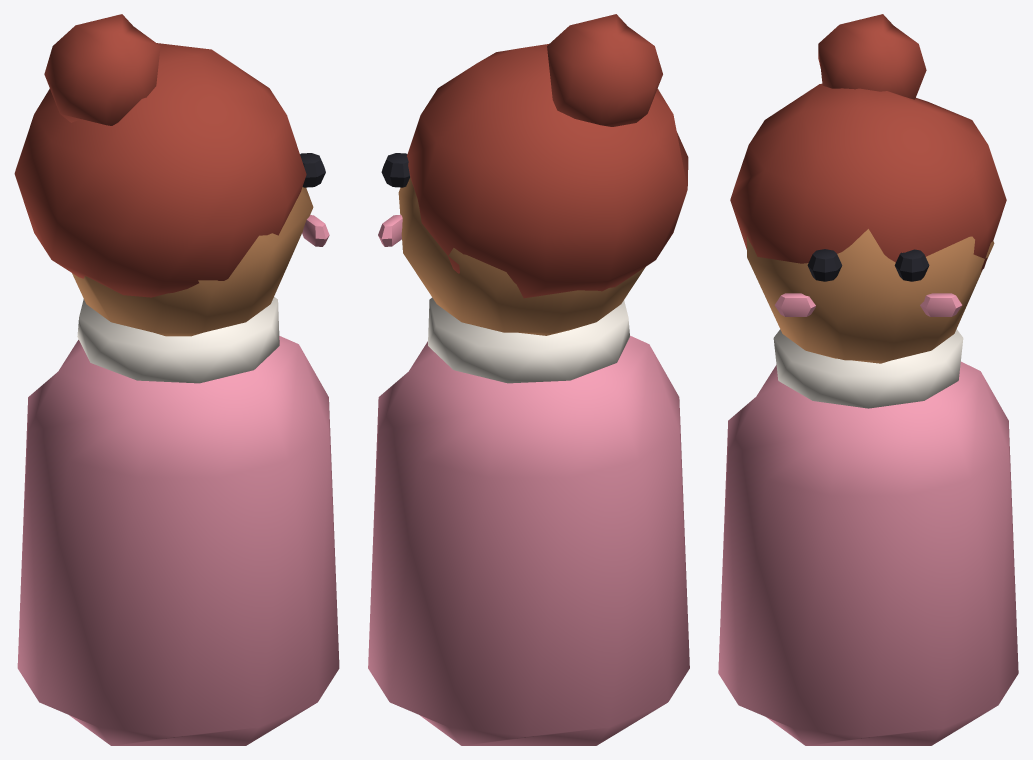
Rendered from peg_b.glb.
The picture shows the model from 3 angles, left to right: view 1: azimuth 30°, elevation 25°; view 2: azimuth 150°, elevation 25°; view 3: azimuth 270°, elevation 25°; orthographic projection. The views are drawn at different scales.
Visible parts, largest first — view 1: peg_b; view 2: peg_b; view 3: peg_b.
Boxes of the visible parts, x1,y1,x2,y2 form: peg_b: [14, 14, 339, 745]; peg_b: [368, 14, 689, 745]; peg_b: [718, 14, 1018, 745].
Size of the model in its own units: 0.3103 by 0.732 by 0.31.
1 material, 1 textured.
